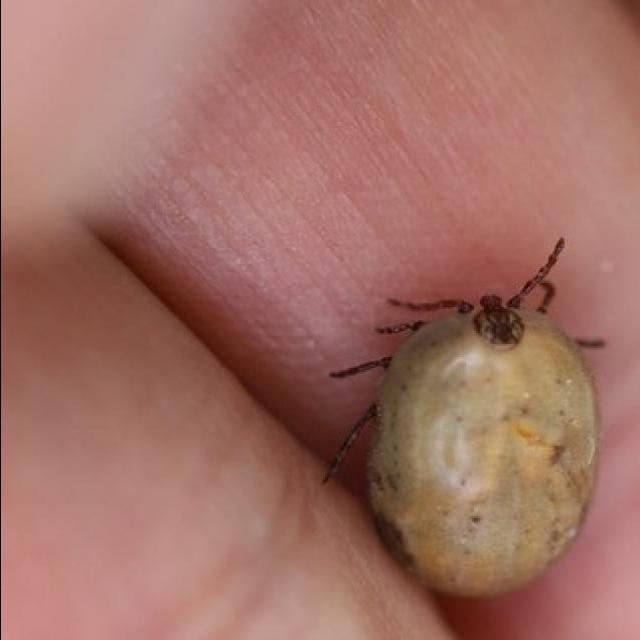Dermacentor Reticulatus-F-Fed: (320, 237, 608, 597)
